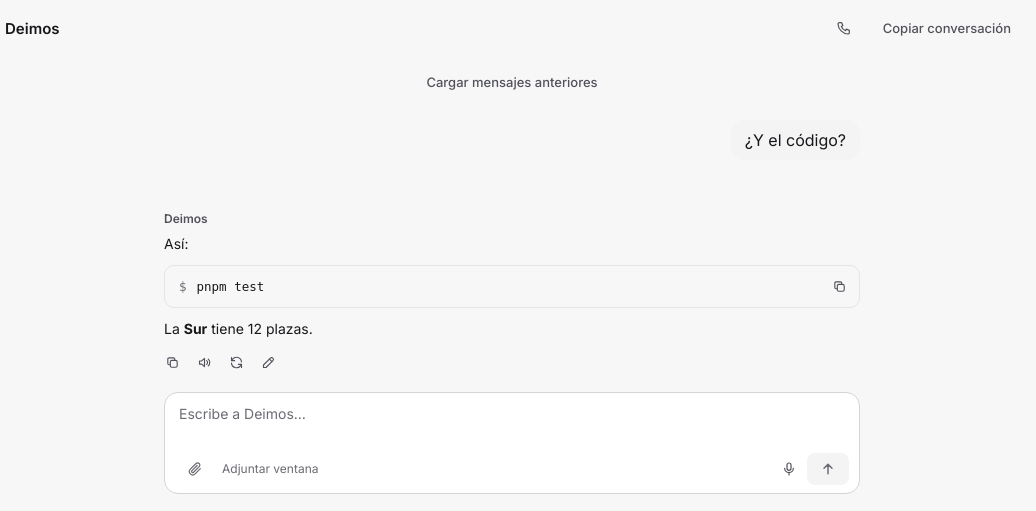
Scenario: copying › copies the whole conversation from the hub, older pages too
This screenshot has width=1036, height=511.
Click the button "Copiar conversación" at (947, 28), box [870,12,1024,44]
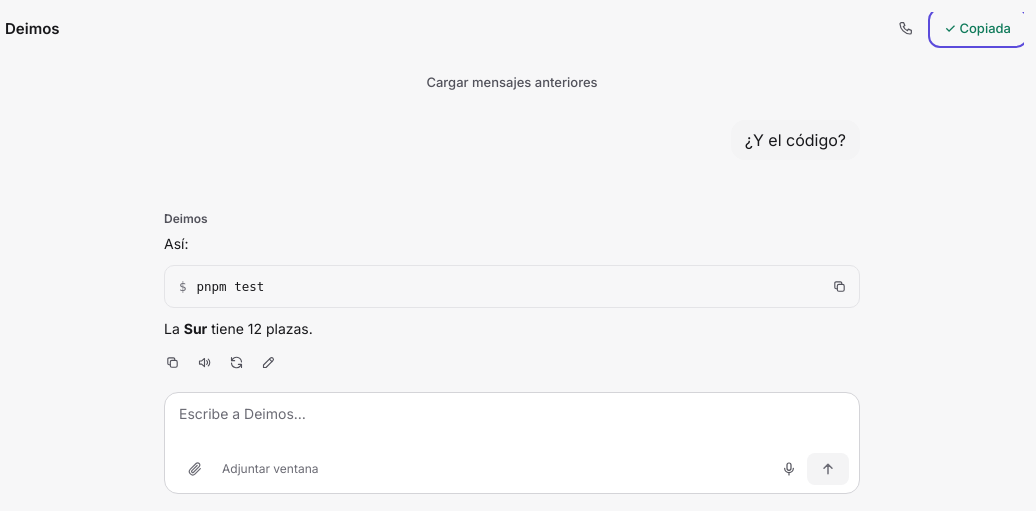
Now the text "✓ Copiada" is shown, box [944,19,1011,37]
